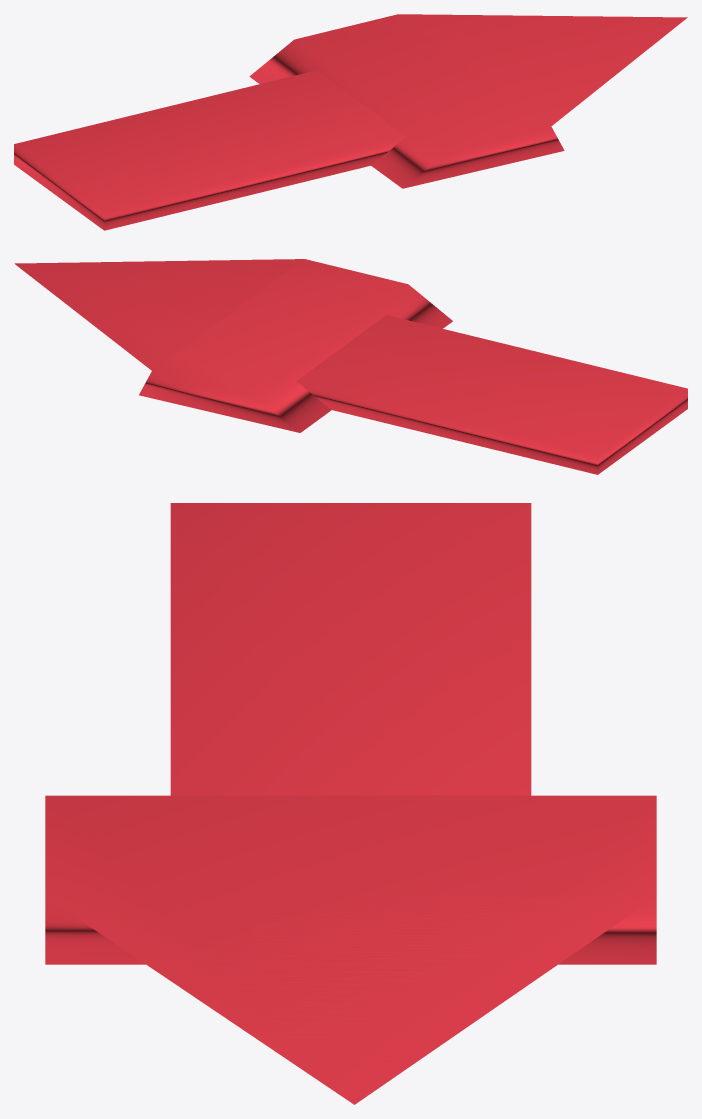
The model's file is First Arrow 1.fbx.
3 views of the same model, one above another, from view 1: azimuth 30°, elevation 25°; view 2: azimuth 150°, elevation 25°; view 3: azimuth 270°, elevation 25° (orthographic). The views are drawn at different scales.
Parts seen in each view (by area): view 1: Arrow; view 2: Arrow; view 3: Arrow.
Part boxes in pixels (left/top/right/bottom): Arrow: left=14, top=14, right=687, bottom=230; Arrow: left=14, top=259, right=687, bottom=474; Arrow: left=45, top=503, right=656, bottom=1104.
Size of the model in its own units: 641 by 26.89 by 270.
